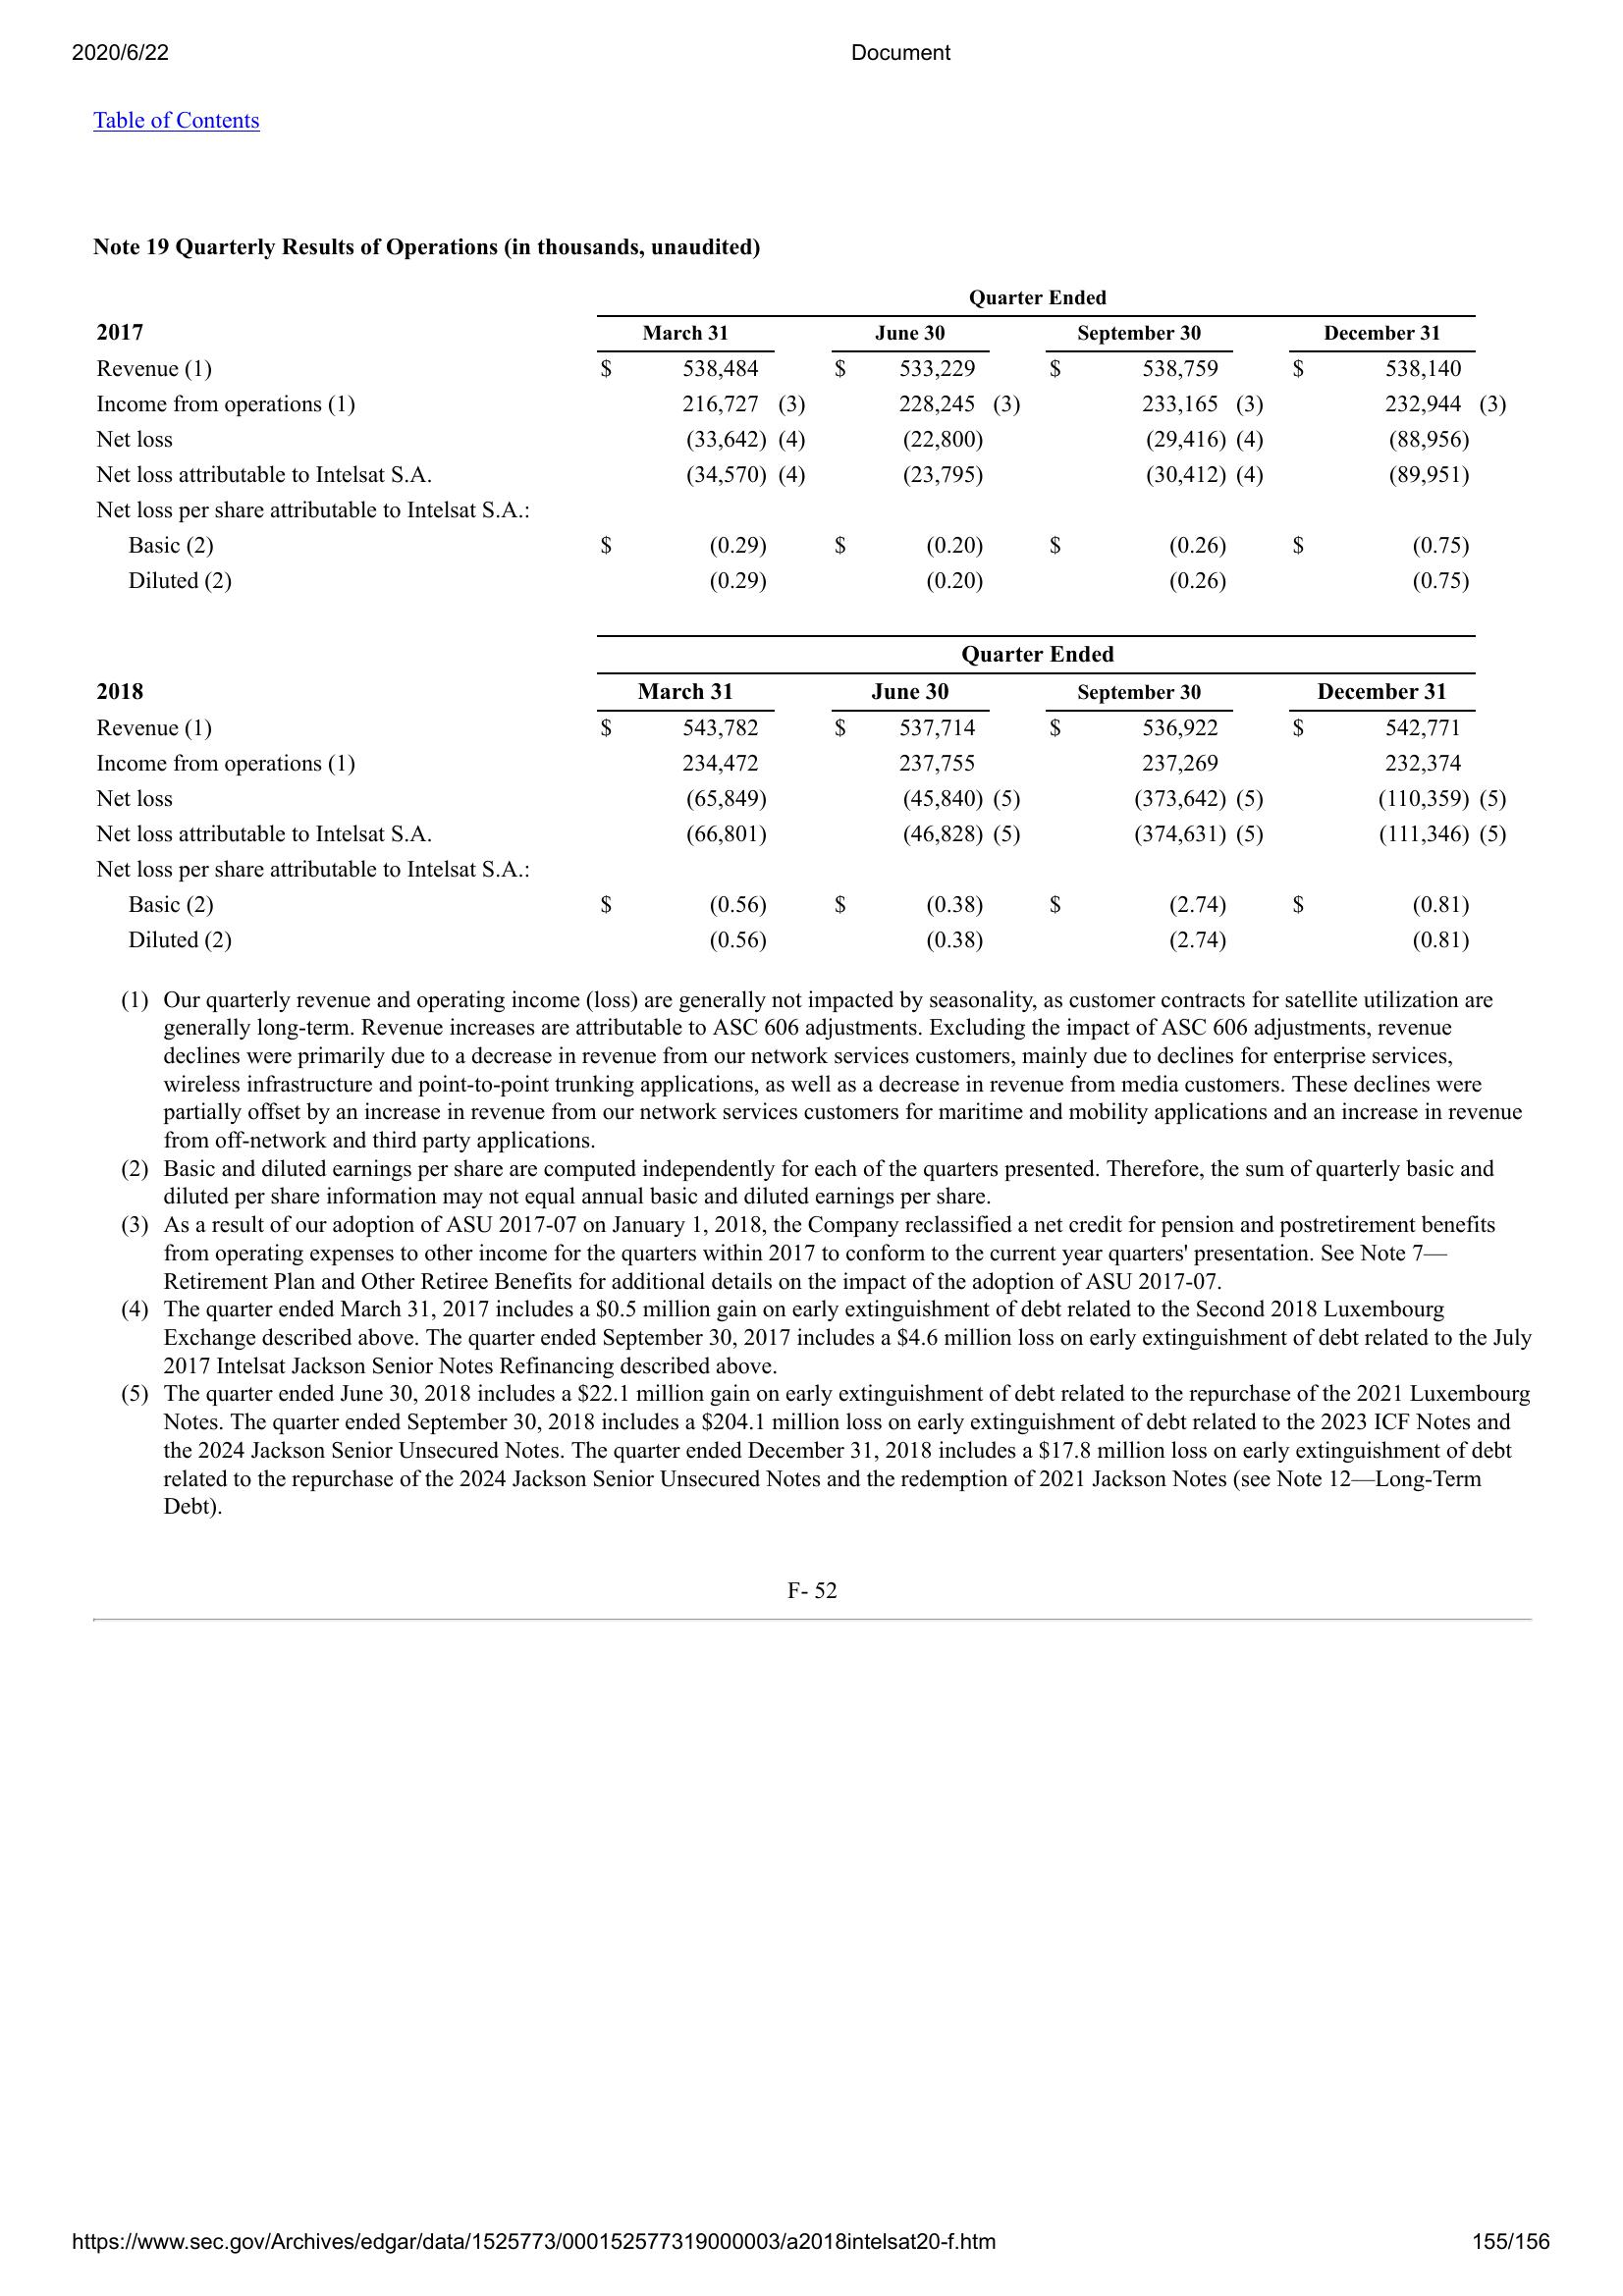table: (90, 283, 1514, 642), (90, 642, 1512, 972)
